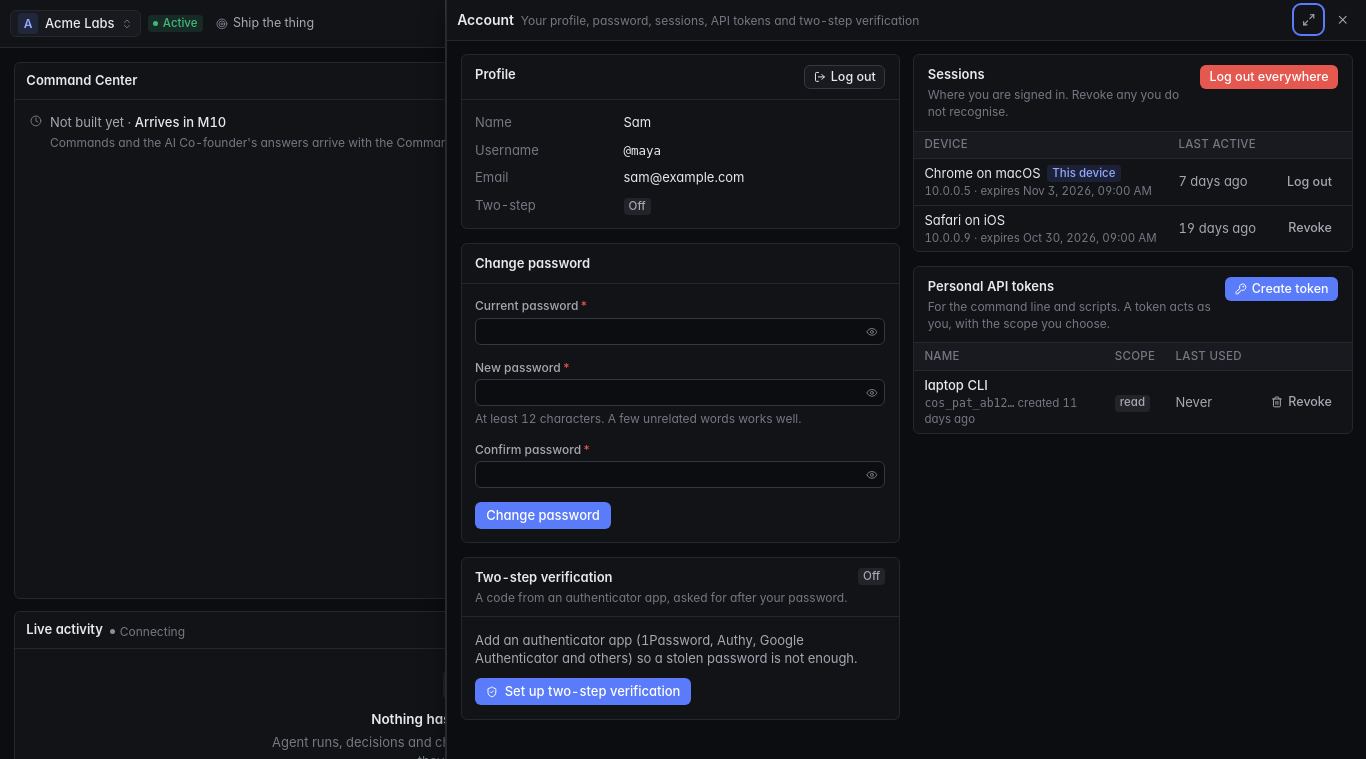
account panel › password › shows the server’s refusal (wrong current password)
In the password field labelled "Current password*": (680, 332) [475,318,885,345], type "wrong"
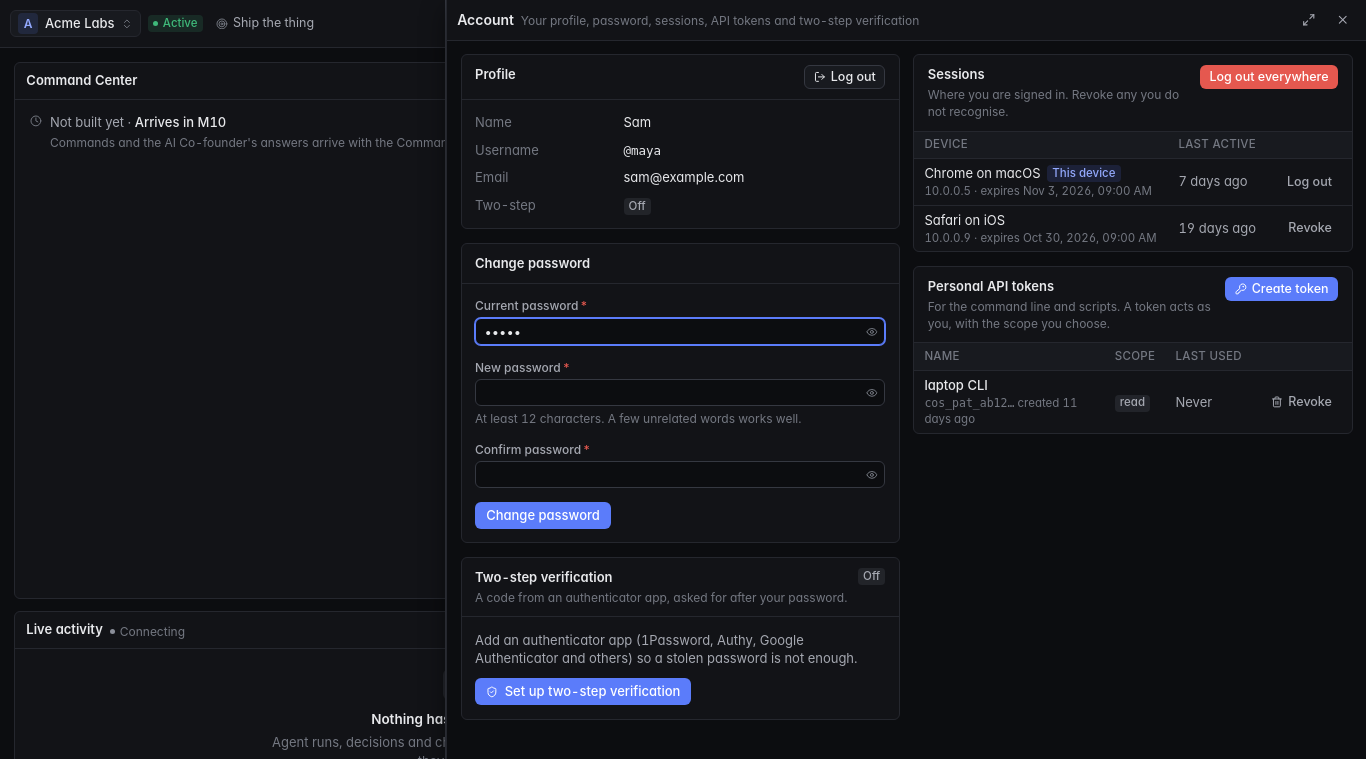
In the password field labelled "New password*": (680, 393) [475,379,885,406], type "amber-harbor-quiet-engine-9"
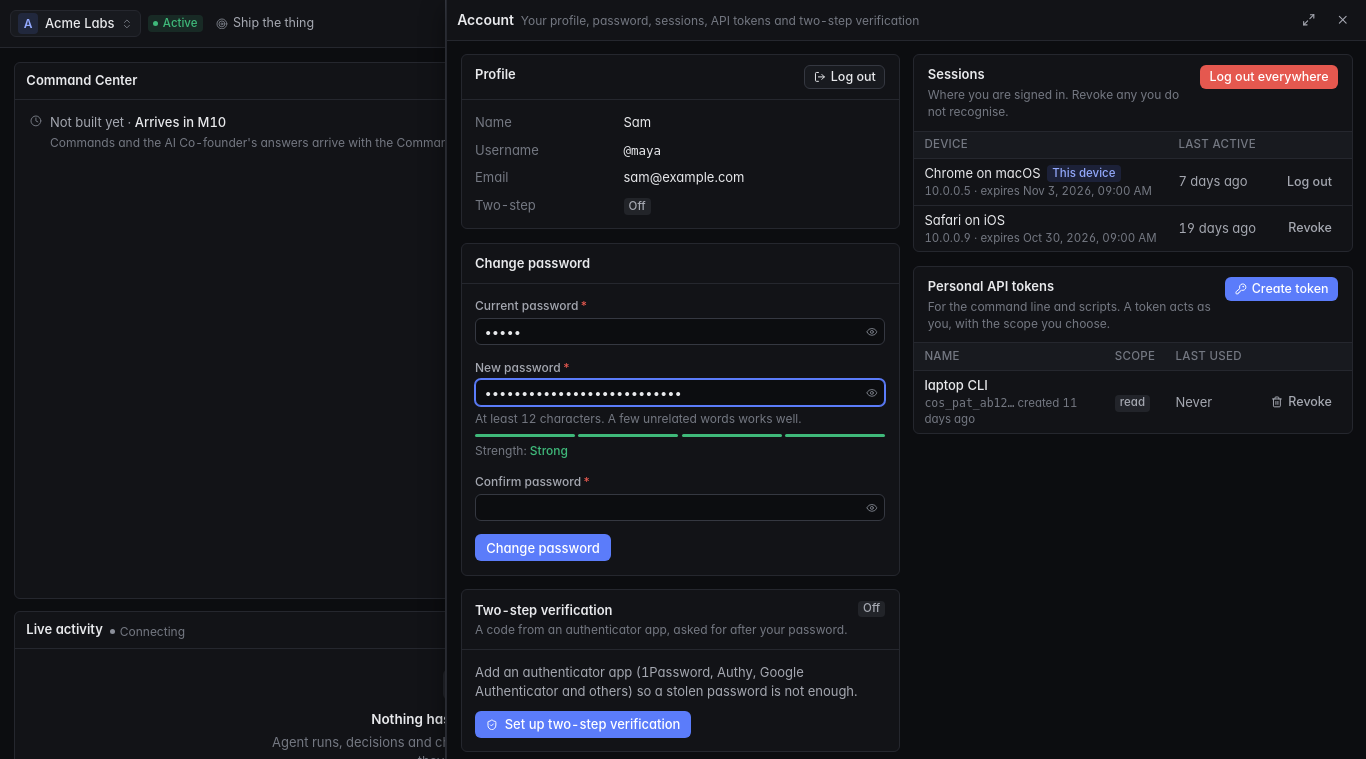
In the password field labelled "Confirm password*": (680, 507) [475,494,885,521], type "amber-harbor-quiet-engine-9"
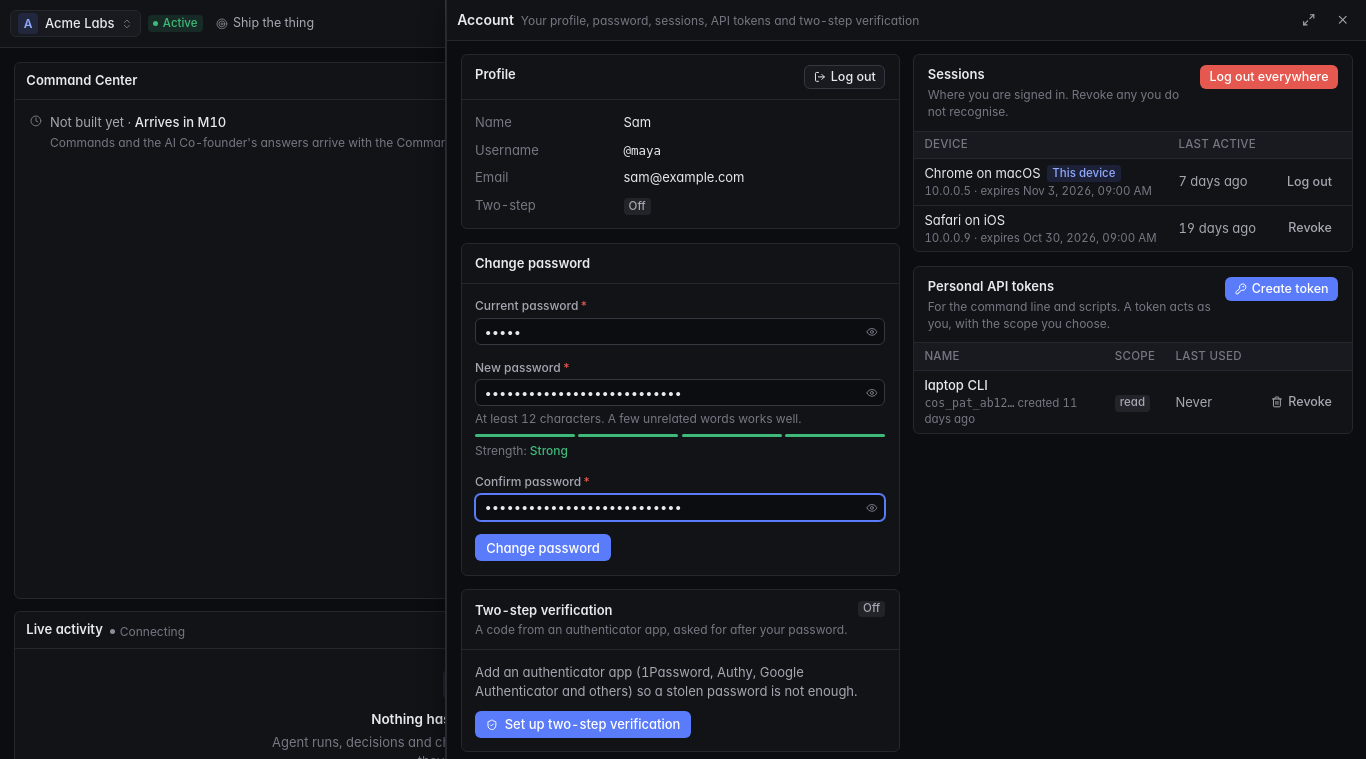
Click the button "Change password": (543, 548) [475,534,611,561]
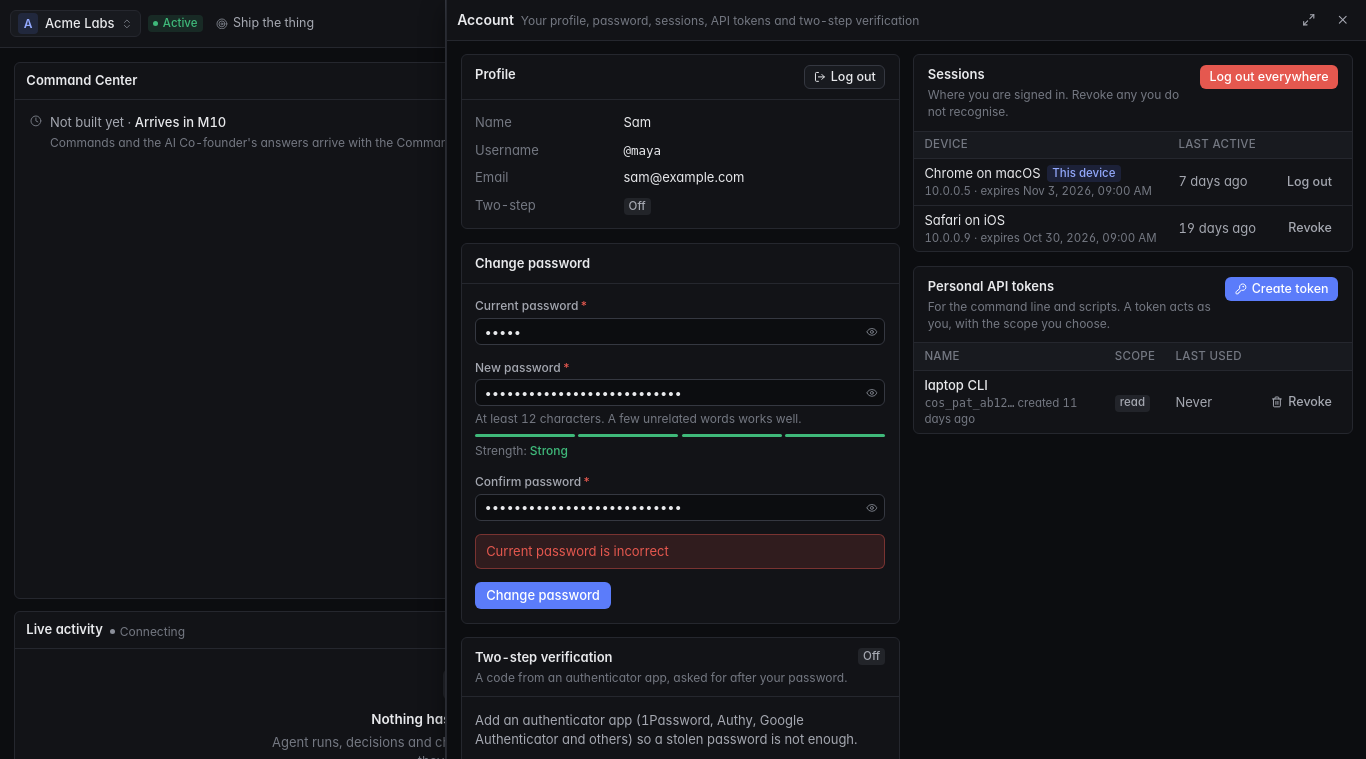
Check: the text "Current password is incorrect" is shown, box [475,534,885,569]
